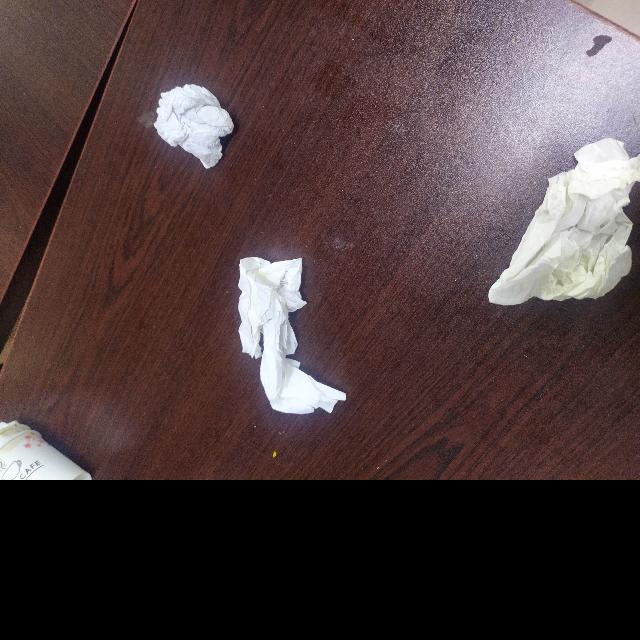kitchen paper: (487, 129, 640, 323), (229, 244, 352, 436), (151, 82, 242, 173)
